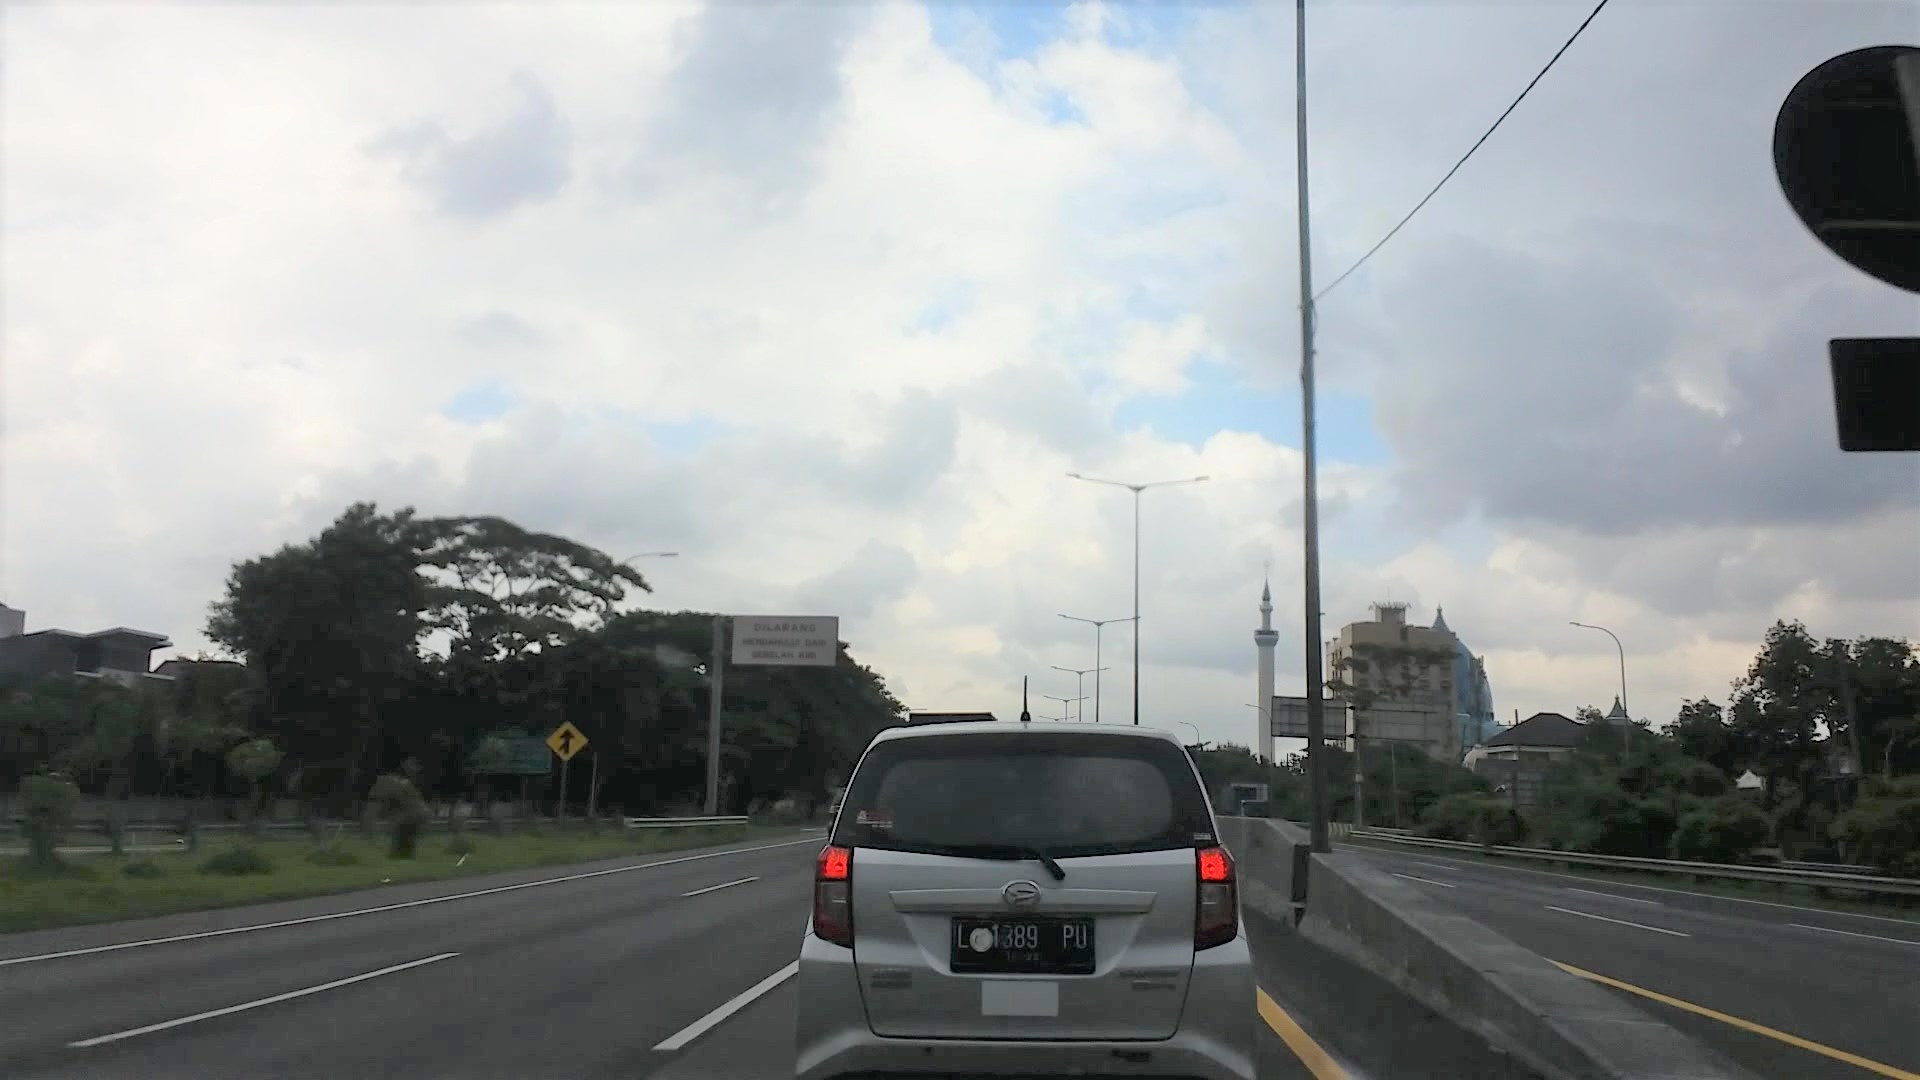plate_positive: (951, 914, 1095, 973)
